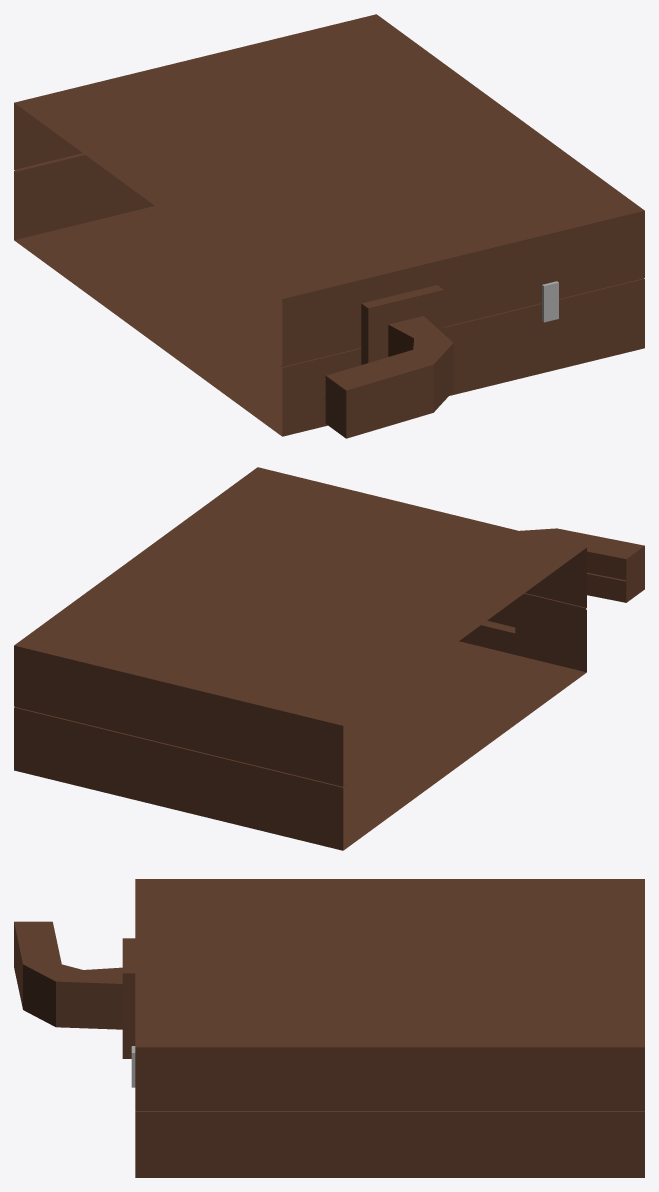
Rendered from briefcase1.gltf.
3 renders of one model, top to bottom at view 1: azimuth 30°, elevation 25°; view 2: azimuth 150°, elevation 25°; view 3: azimuth 270°, elevation 25°, orthographic. The views are drawn at different scales.
Visible parts, largest first — view 1: Cube; view 2: Cube; view 3: Cube.
Part boxes in pixels (x1,y1,x2,y2): Cube: (14,14,644,438); Cube: (14,467,644,850); Cube: (14,879,644,1177).
Bounding box in the file's own units: 1 × 0.3626 × 1.59.
Materials: 1 (1 with a texture image).
